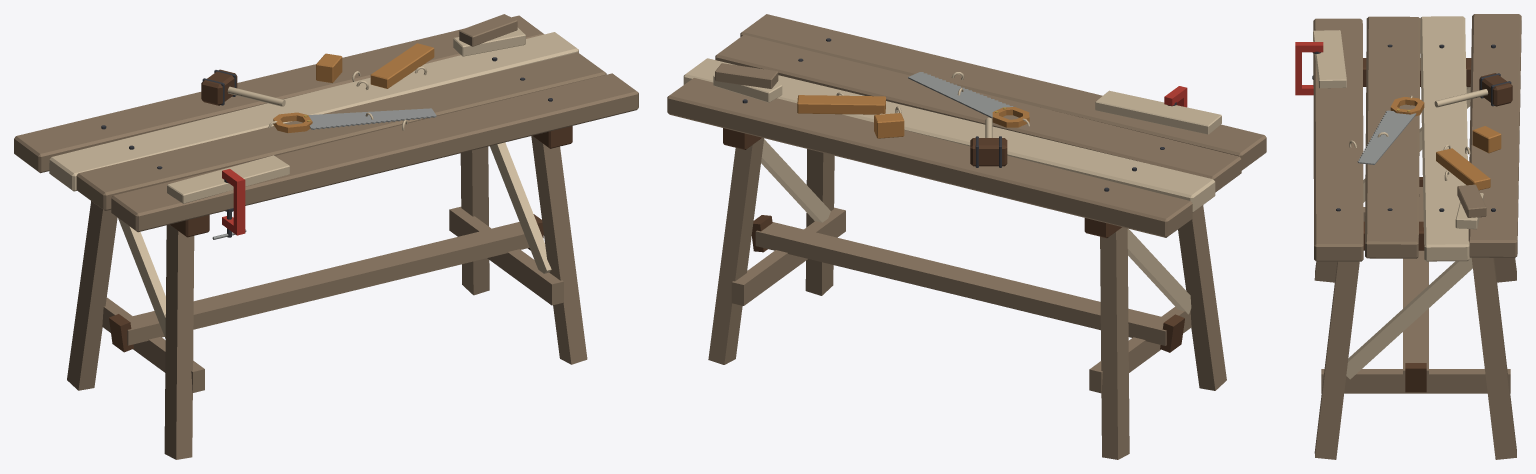
Rendered from deco_worktable_wood.fbx.
The picture shows the model from 3 angles, left to right: view 1: azimuth 30°, elevation 25°; view 2: azimuth 150°, elevation 25°; view 3: azimuth 270°, elevation 25°; orthographic projection. The views are drawn at different scales.
Parts seen in each view (by area): view 1: Worktable_Wood_Top, Worktable_Wood_Frame, Worktable_Wood_Offcuts, Worktable_Wood_Saw, Worktable_Wood_Clamp; view 2: Worktable_Wood_Top, Worktable_Wood_Frame, Worktable_Wood_Offcuts, Worktable_Wood_Saw; view 3: Worktable_Wood_Top, Worktable_Wood_Frame, Worktable_Wood_Offcuts, Worktable_Wood_Saw, Worktable_Wood_Clamp.
Boxes of the visible parts, box(x1,y1,x2,y2) form: Worktable_Wood_Top: box(14, 15, 638, 232); Worktable_Wood_Frame: box(67, 126, 587, 459); Worktable_Wood_Offcuts: box(167, 14, 525, 203); Worktable_Wood_Saw: box(201, 69, 436, 132); Worktable_Wood_Clamp: box(212, 169, 246, 239); Worktable_Wood_Top: box(667, 14, 1266, 237); Worktable_Wood_Frame: box(708, 128, 1226, 459); Worktable_Wood_Offcuts: box(713, 63, 1221, 138); Worktable_Wood_Saw: box(908, 72, 1029, 167); Worktable_Wood_Top: box(1313, 14, 1521, 261); Worktable_Wood_Frame: box(1314, 58, 1516, 459); Worktable_Wood_Offcuts: box(1313, 30, 1501, 229); Worktable_Wood_Saw: box(1357, 73, 1512, 164); Worktable_Wood_Clamp: box(1295, 42, 1323, 95).
Bounding box in the file's own units: 256 × 133 × 105.
